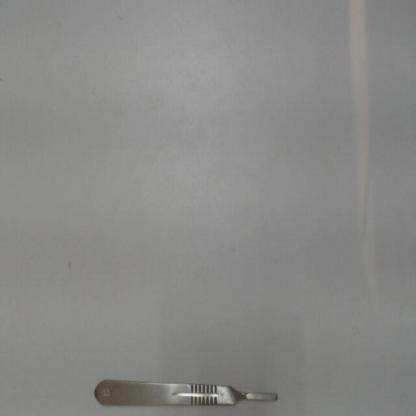No.4 BP Handle: (88, 373, 286, 414)
